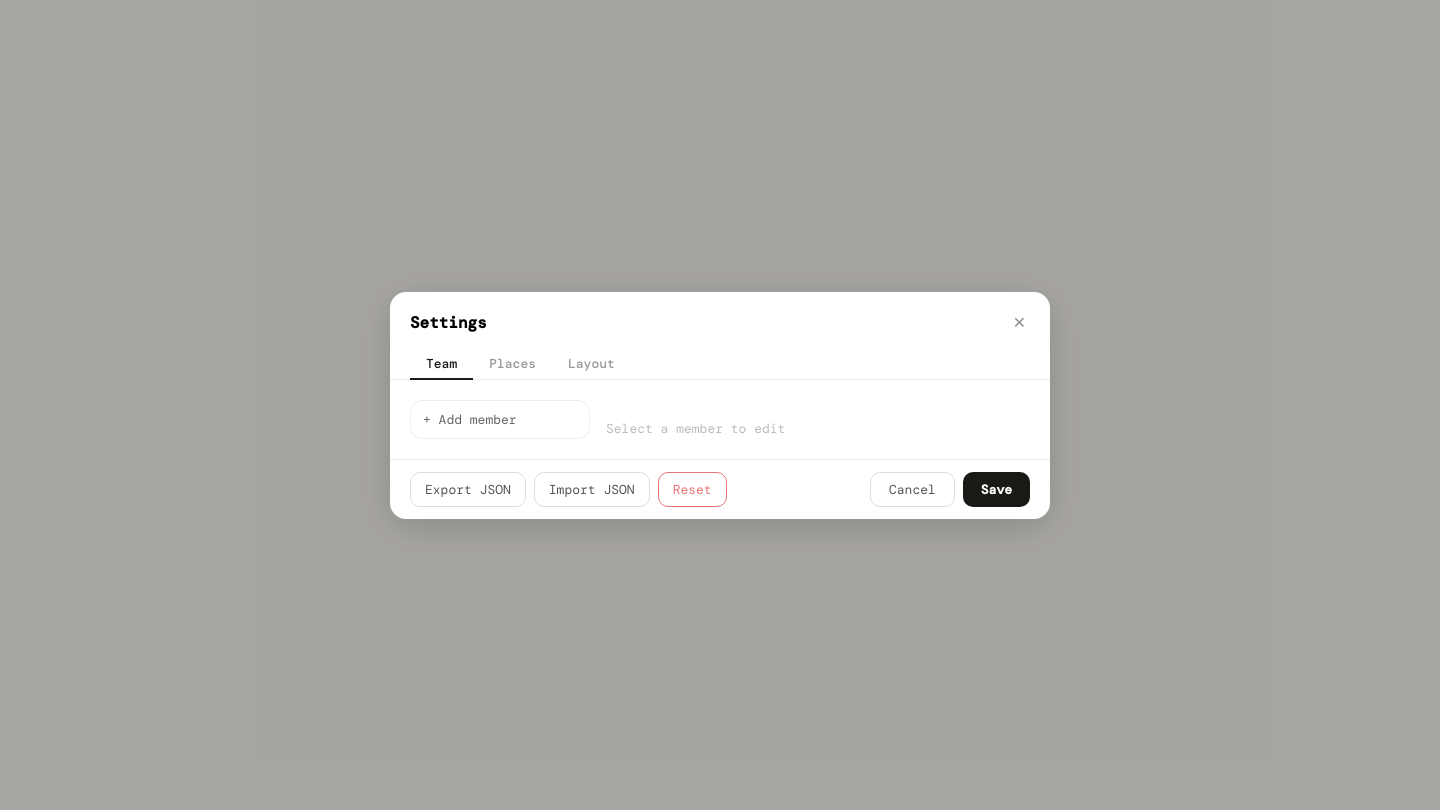
Test case: ConfigModal › switches to Layout tab when clicked
Click the button "Layout" at (591, 364), box [552,348,631,380]
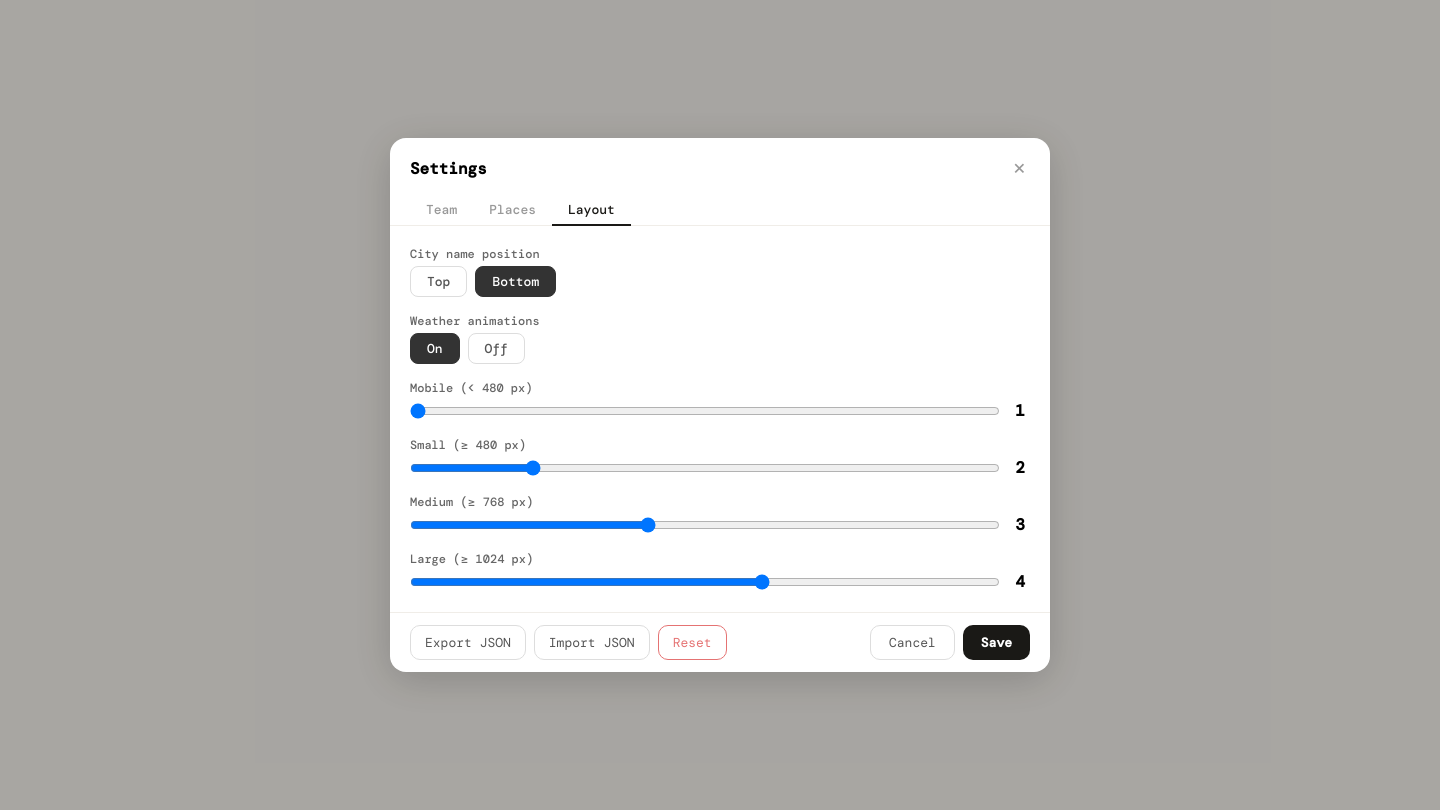
Check: the text "Mobile (< 480 px)" is shown, box [410,380,532,396]
